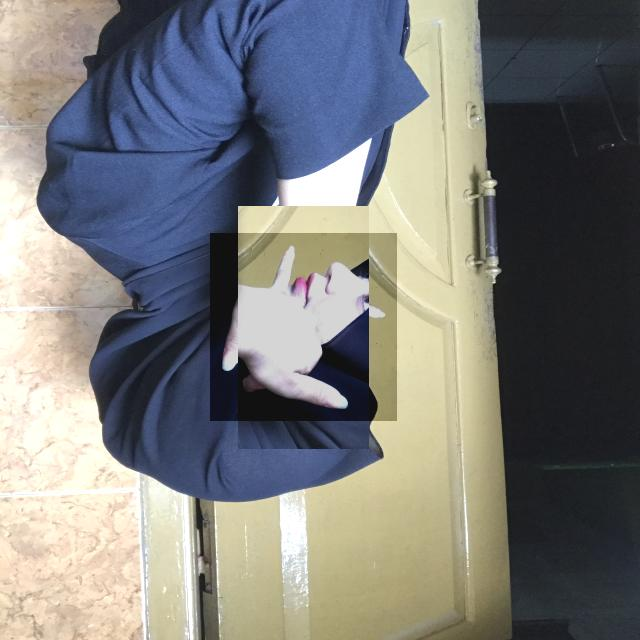telpon: (210, 233, 397, 421)
